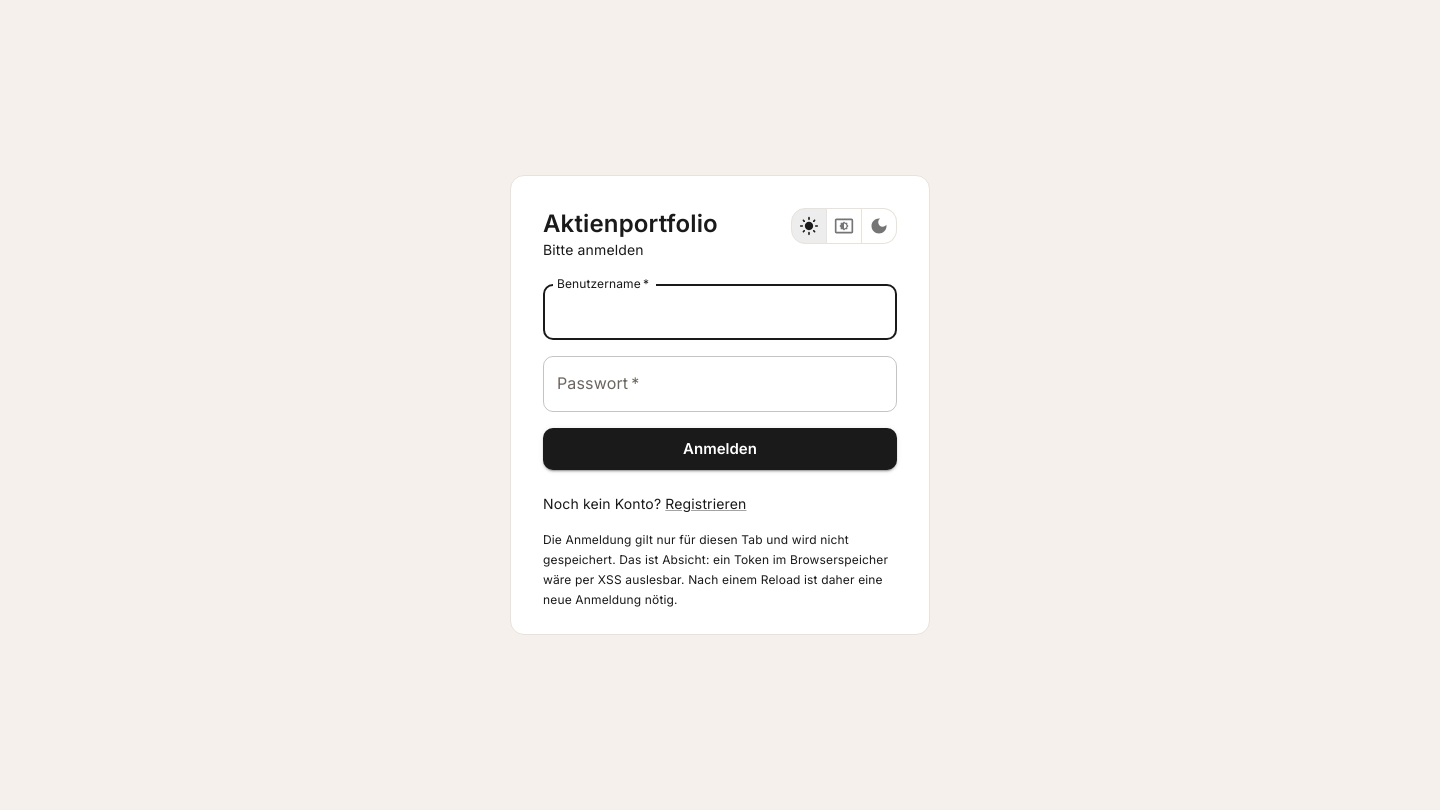
Test case: Mandanten-Übersicht für Manager › weist das ausgewählte Mandat in der Kopfzeile als Mandat aus
Type "demo" into the field labelled "Benutzername *". click: (720, 312)
box: [543,284,897,340]
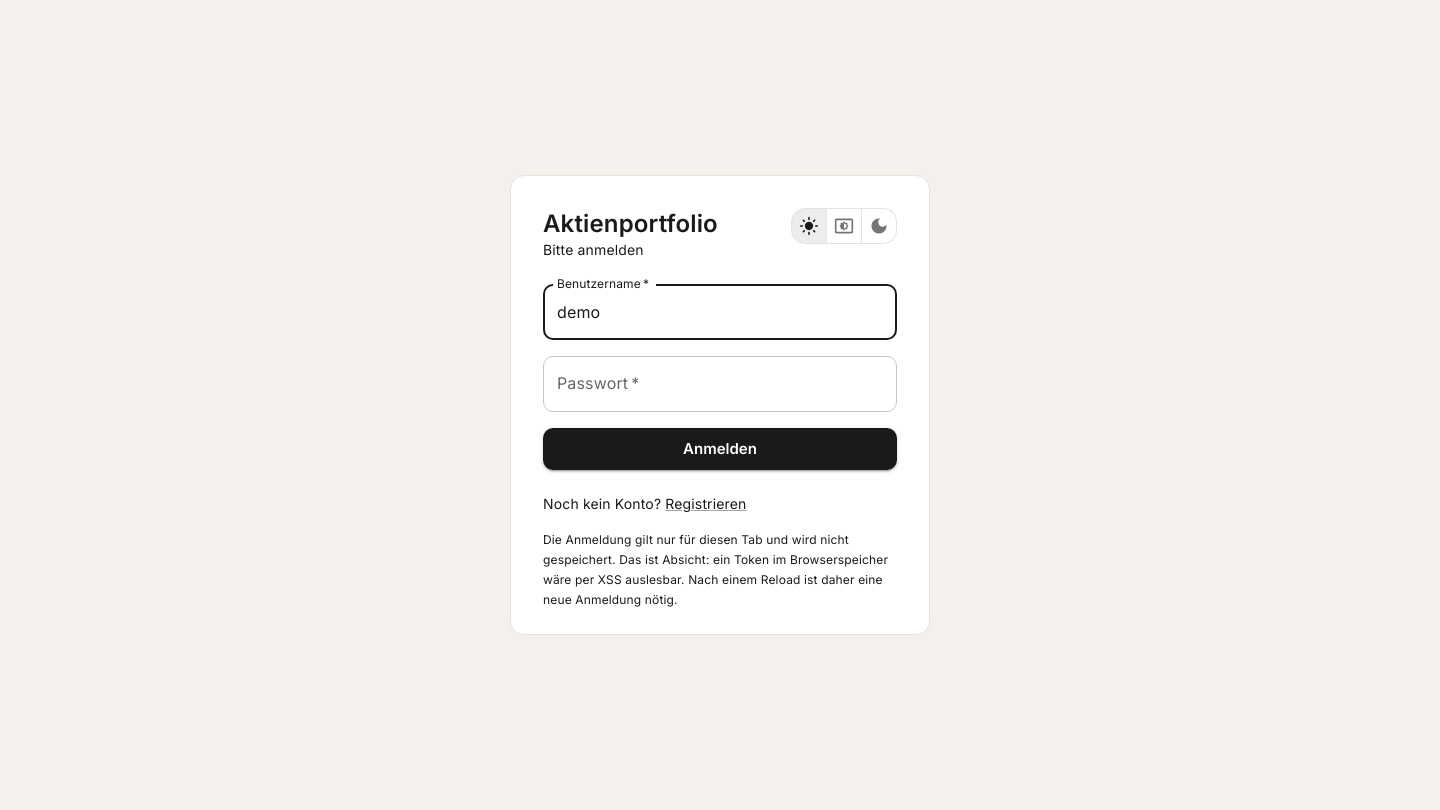
Type "demo1234" into the password field labelled "Passwort *". click: (720, 384)
box: [543,356,897,412]
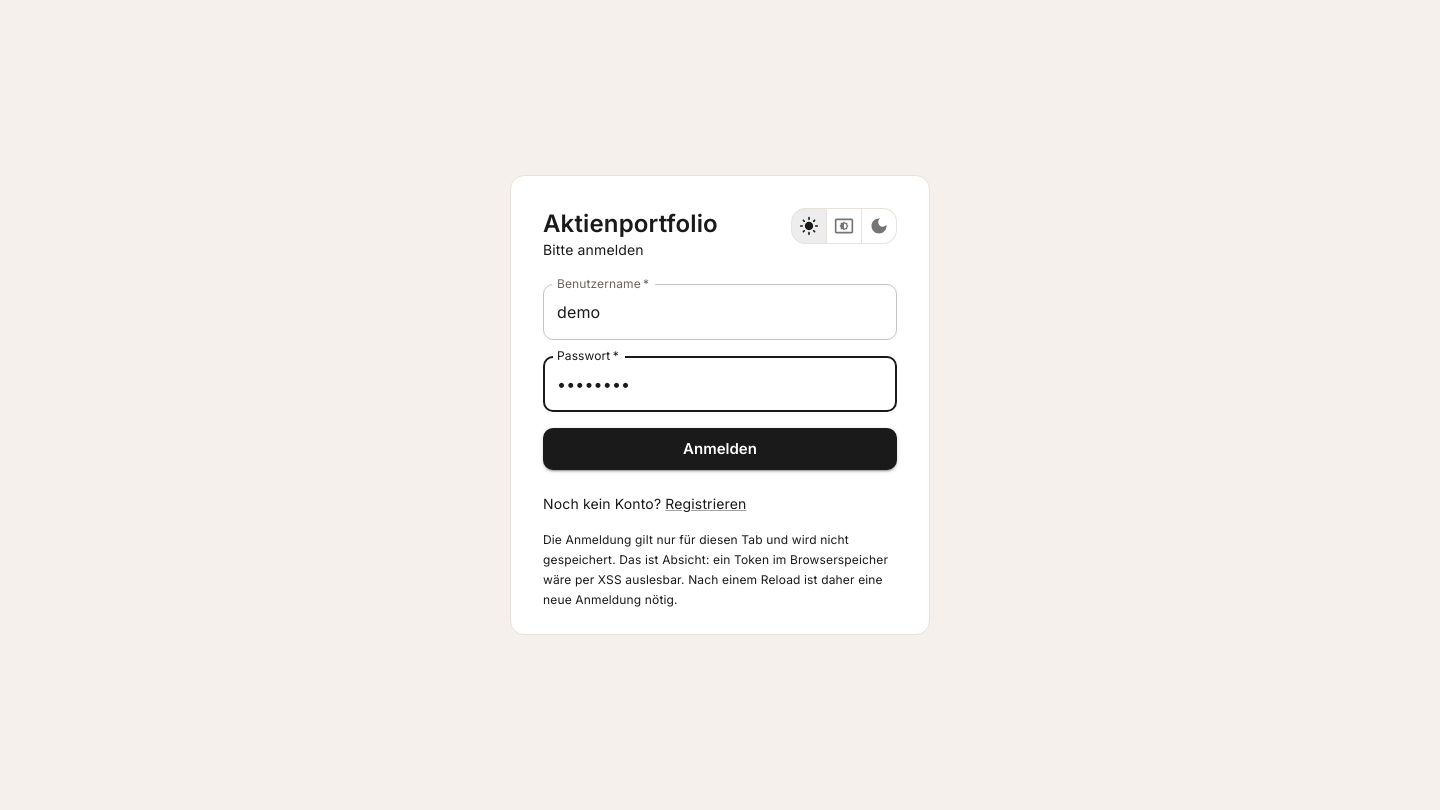
Click the button "Anmelden". click: (720, 449)
box: [543,428,897,470]
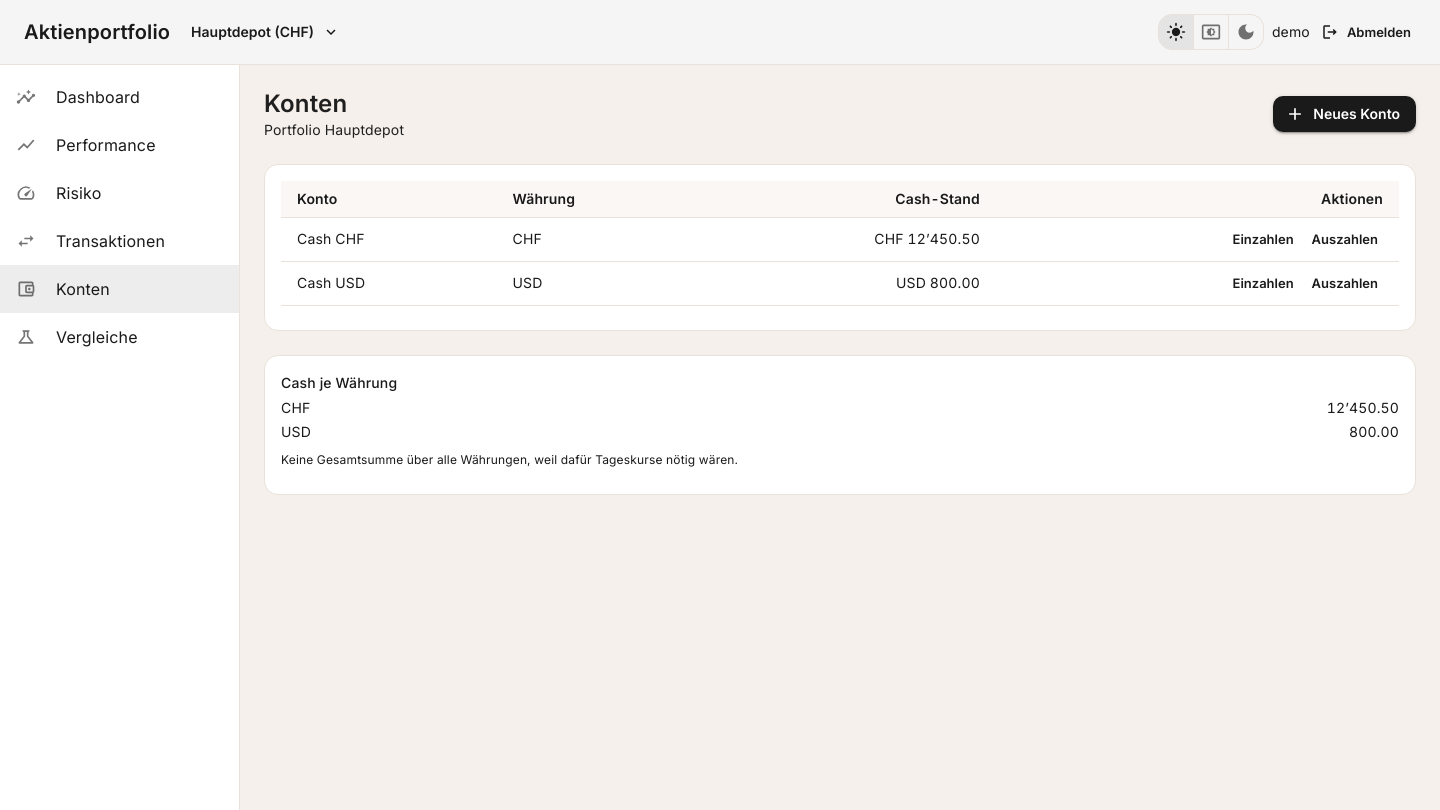
Check: the button "Abmelden" is shown, box [1318,17,1416,47]
Check: the text "Hauptdepot (CHF)" is shown, box [191,22,314,42]
Click the button with aria-label "Portfolio wählen". click: (264, 32)
box: [186,18,343,46]
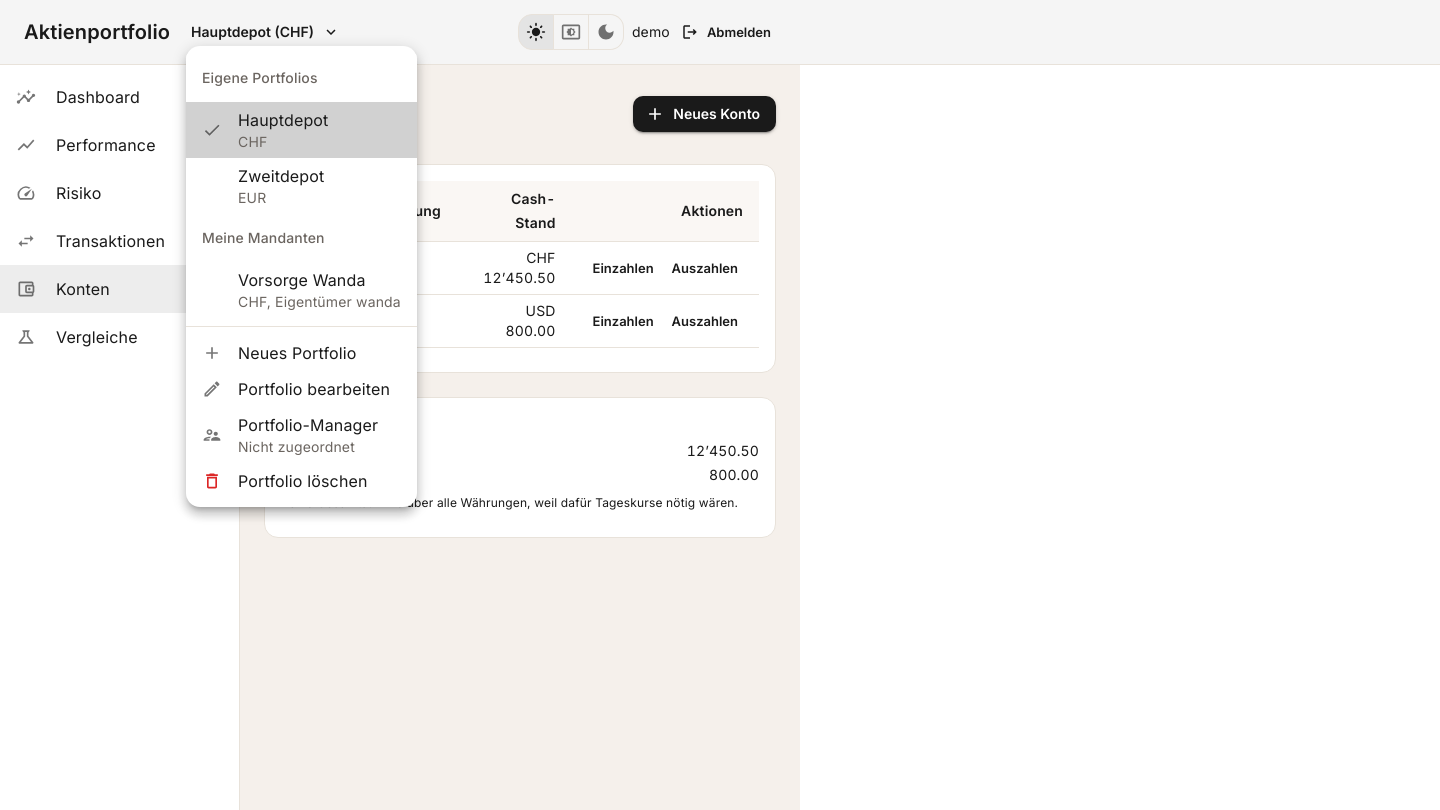
Click the menu item "Vorsorge Wanda CHF, Eigentümer wanda". click: (319, 290)
box: [238,270,401,310]
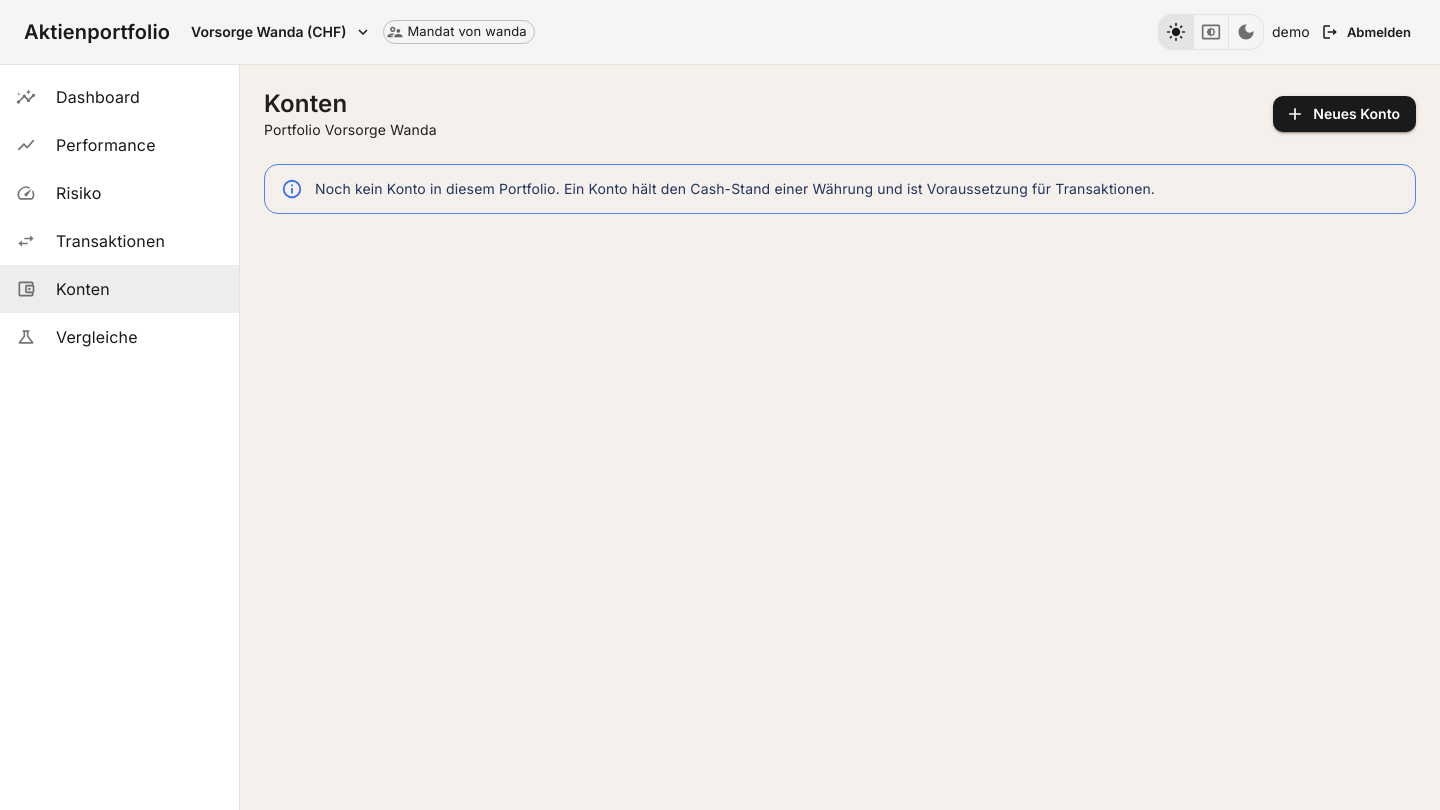
Check: the text "Vorsorge Wanda (CHF)" is shown, box [191,22,346,42]
Check: the text "Mandat von wanda" is shown, box [400,22,534,42]
